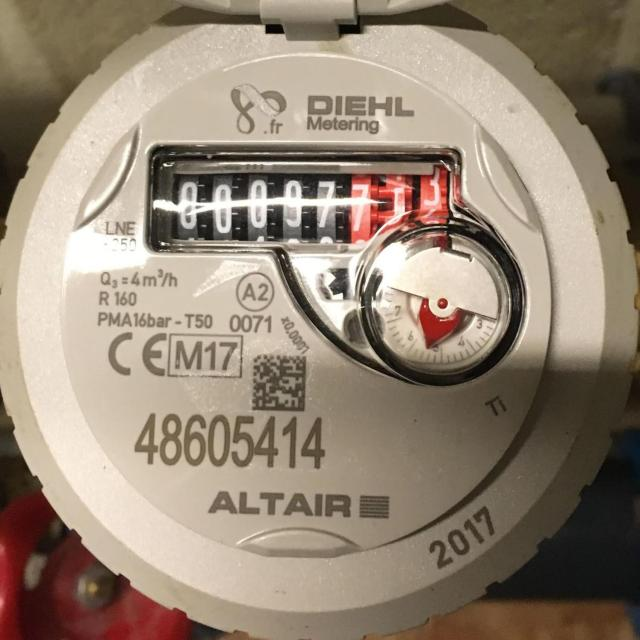gaz_meter: (1, 4, 640, 636)
indication: (154, 154, 457, 252)
